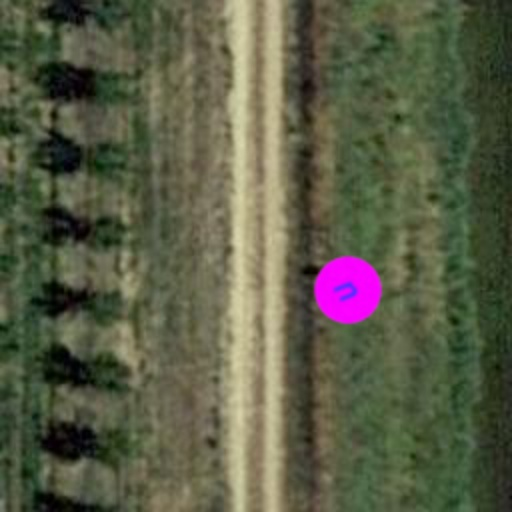circle: (300, 242, 396, 338)
